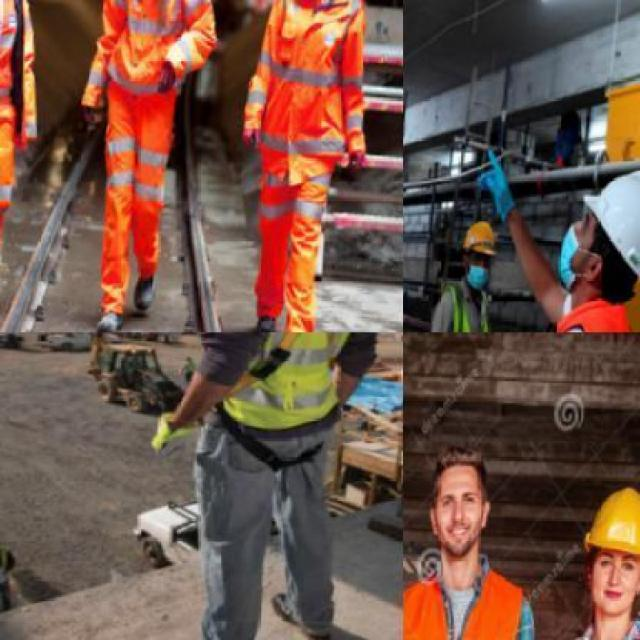vest: (235, 0, 394, 185), (178, 332, 390, 442), (77, 0, 237, 138), (403, 557, 537, 638), (0, 0, 63, 172), (436, 280, 504, 331)
